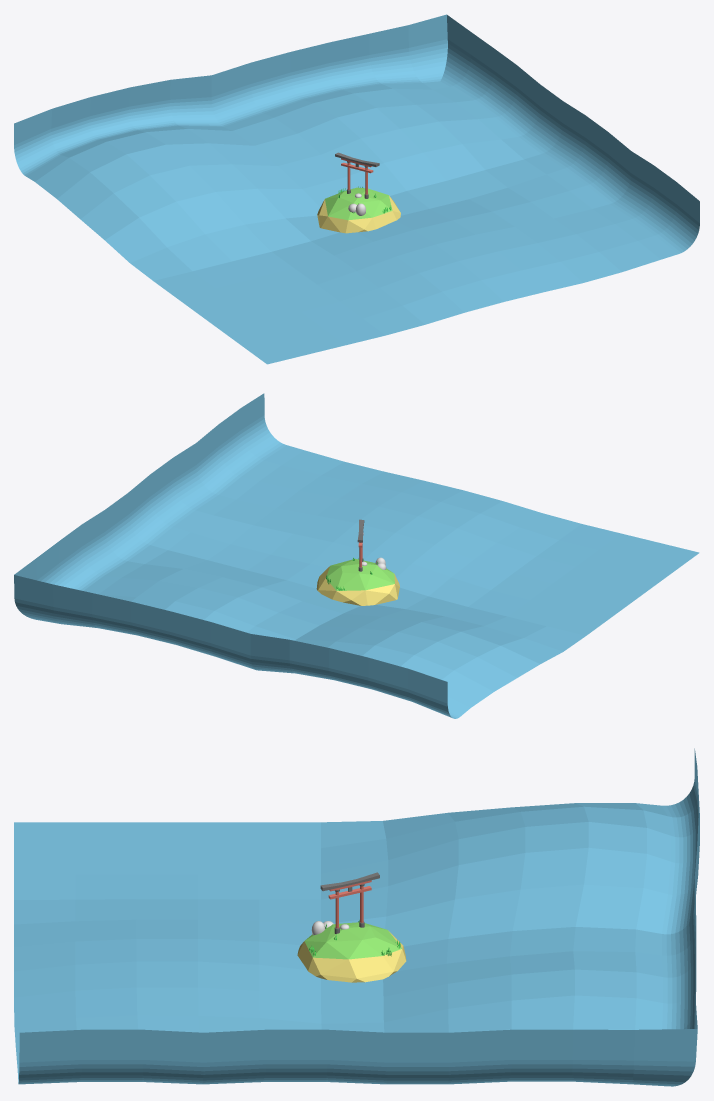
The model's file is Ambient.glb.
3 views of the same model, one above another, from view 1: azimuth 30°, elevation 25°; view 2: azimuth 150°, elevation 25°; view 3: azimuth 270°, elevation 25° (orthographic). The views are drawn at different scales.
Parts seen in each view (by area): view 1: Plane, Sphere, Sphere.005; view 2: Plane, Sphere, Sphere.005; view 3: Plane, Sphere, Sphere.005, Cube.003.
Part boxes in pixels (bbox=[...]): Plane: bbox=[14, 14, 699, 364]; Sphere: bbox=[325, 187, 392, 220]; Sphere.005: bbox=[317, 195, 400, 233]; Plane: bbox=[14, 393, 699, 718]; Sphere: bbox=[326, 558, 394, 590]; Sphere.005: bbox=[316, 566, 399, 605]; Plane: bbox=[14, 748, 699, 1086]; Sphere: bbox=[304, 922, 401, 959]; Sphere.005: bbox=[297, 931, 406, 982]; Cube.003: bbox=[328, 880, 371, 928].
Bounding box in the file's own units: 17.63 × 2.41 × 17.84.
